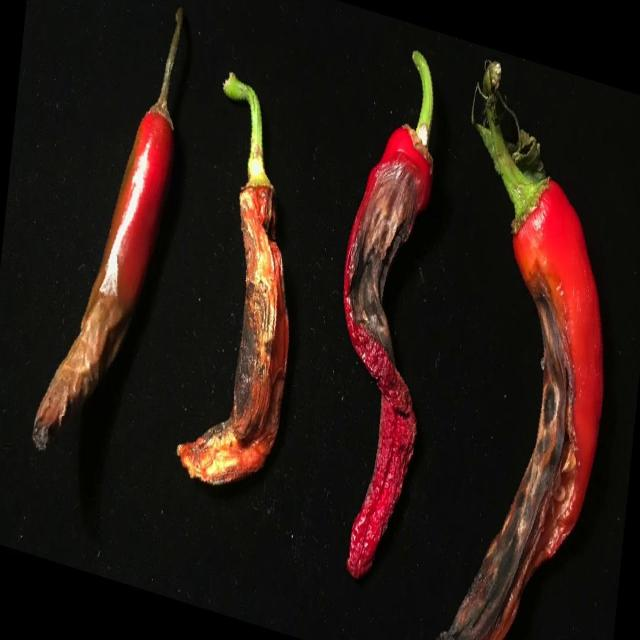Moko: (458, 250, 563, 637), (348, 104, 415, 577), (193, 170, 279, 482), (28, 266, 133, 429)
